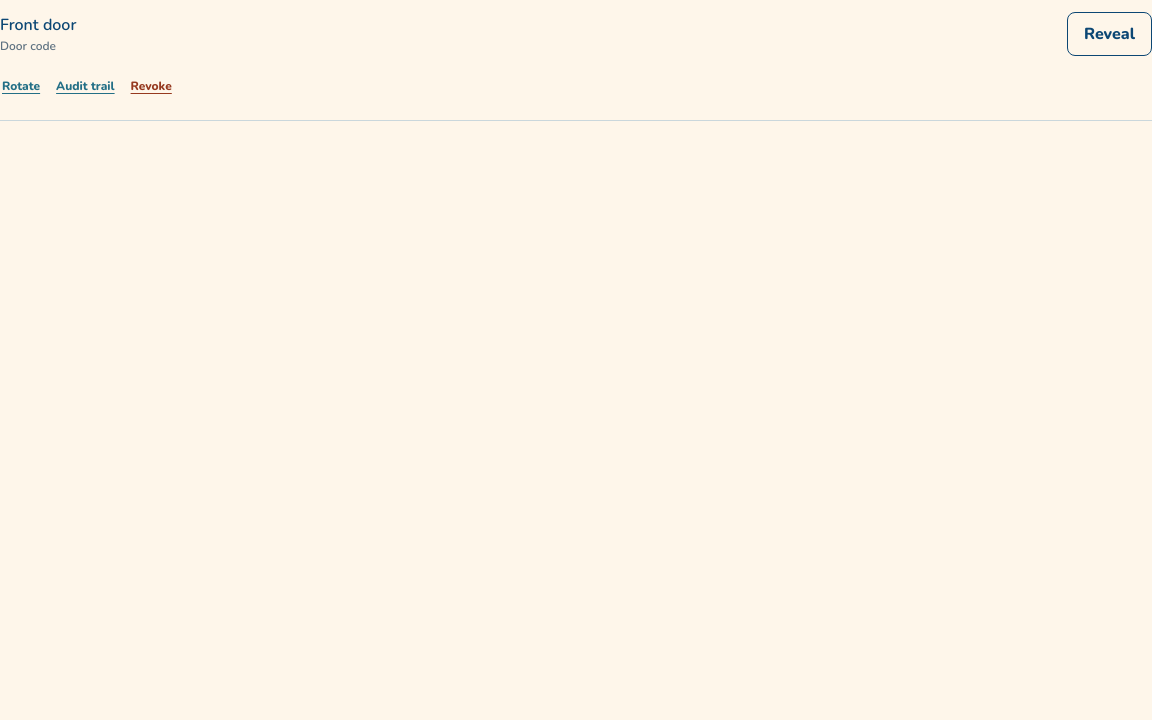
Test case: the vault reveal panel › counts down visibly, and announces the last seconds
Click the button "Reveal".
click(1110, 34)  # box [1067, 12, 1151, 56]
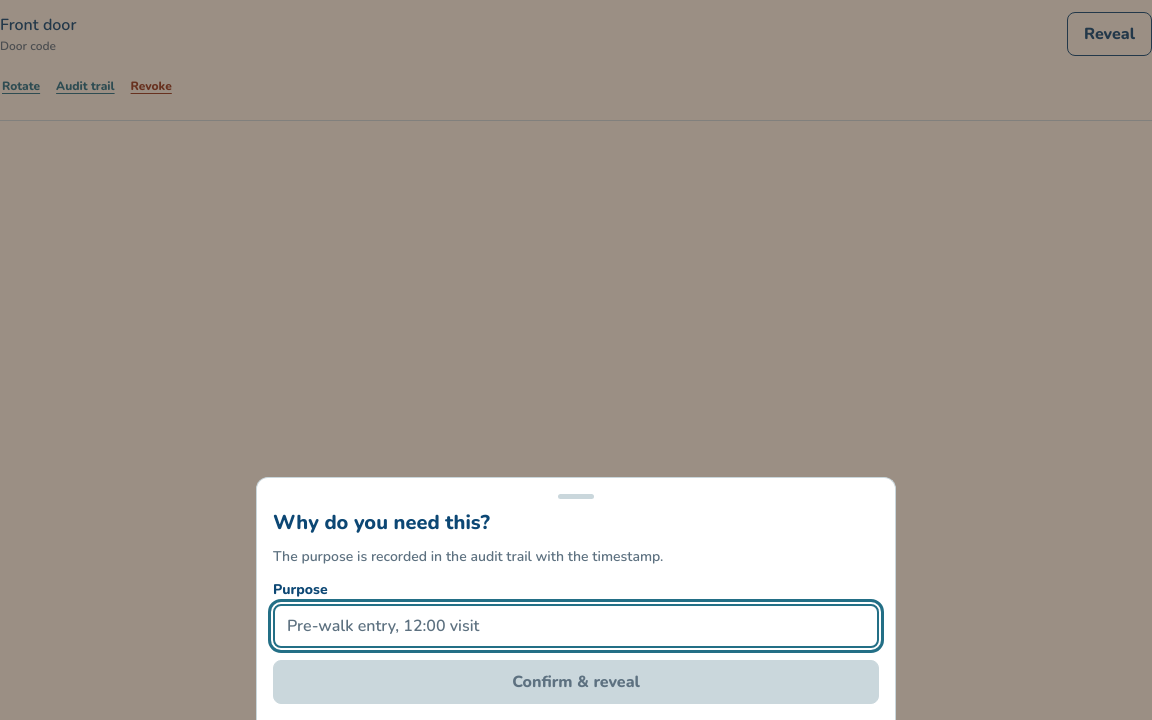
Type "Luna 2pm walk" into the field labelled "Purpose".
click(576, 626); type("Luna 2pm walk")  # box [273, 604, 879, 648]
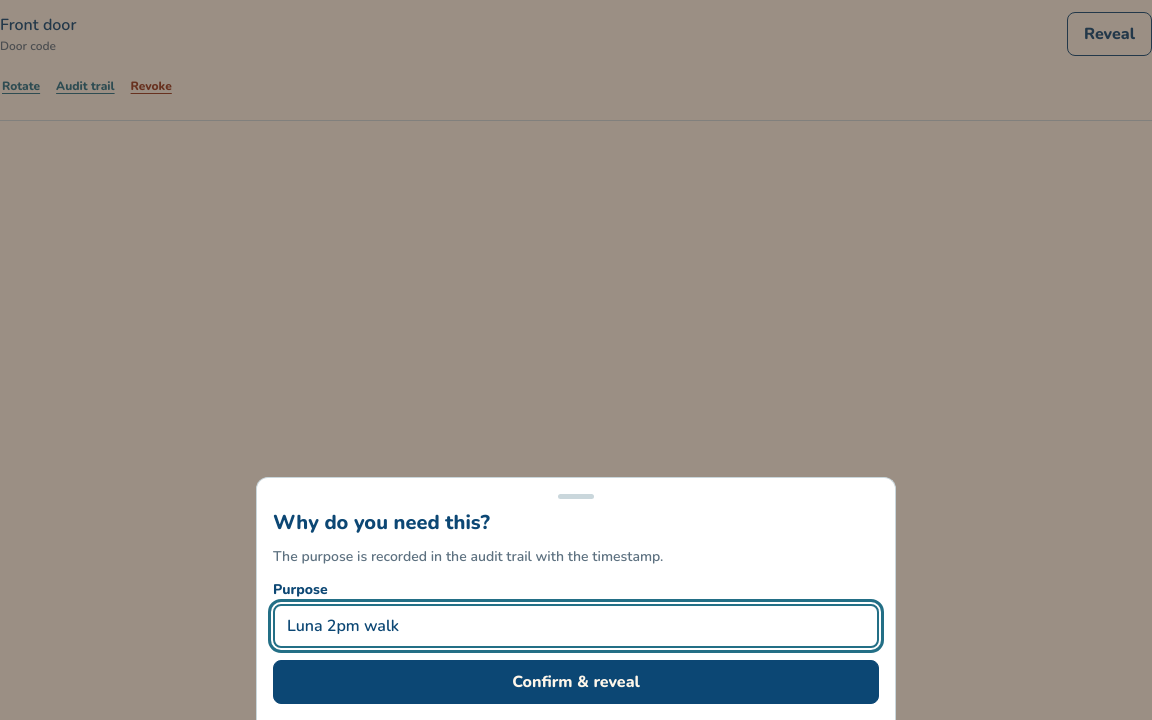
Click the button "Confirm & reveal".
click(576, 682)  # box [273, 660, 879, 704]
Wait 25000 ms
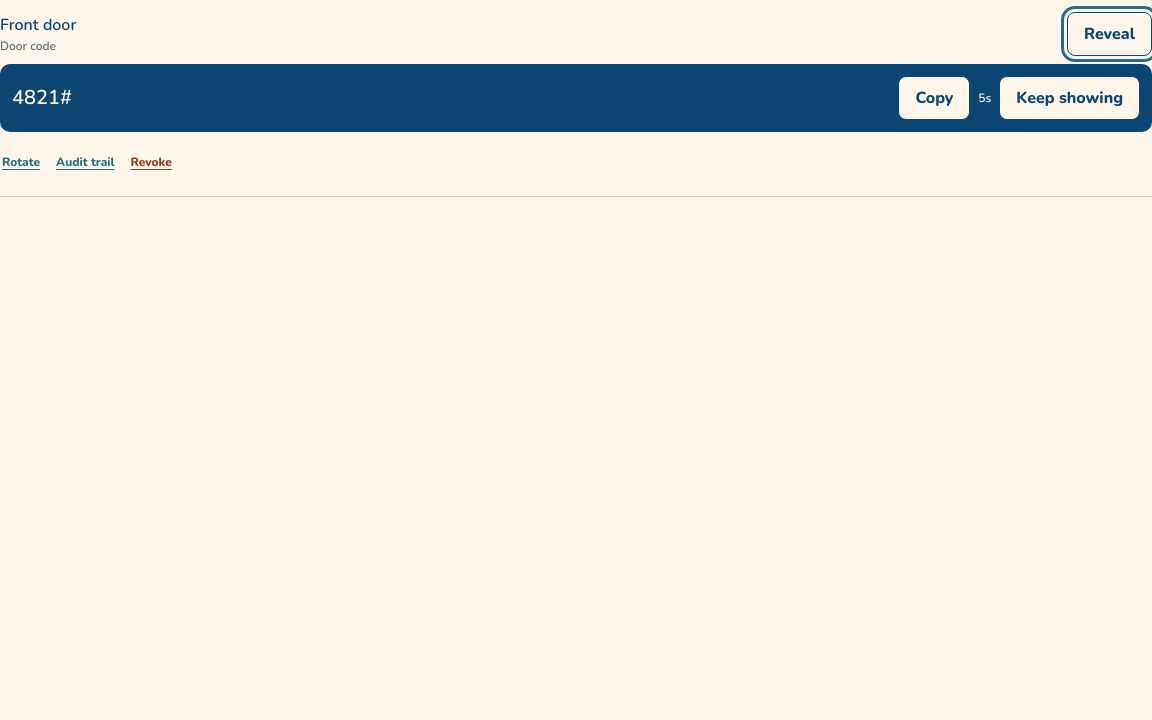
Expected: the text "4821#" is shown, [12, 84, 72, 111]
Expected: the text "5s" is shown, [978, 89, 991, 107]
